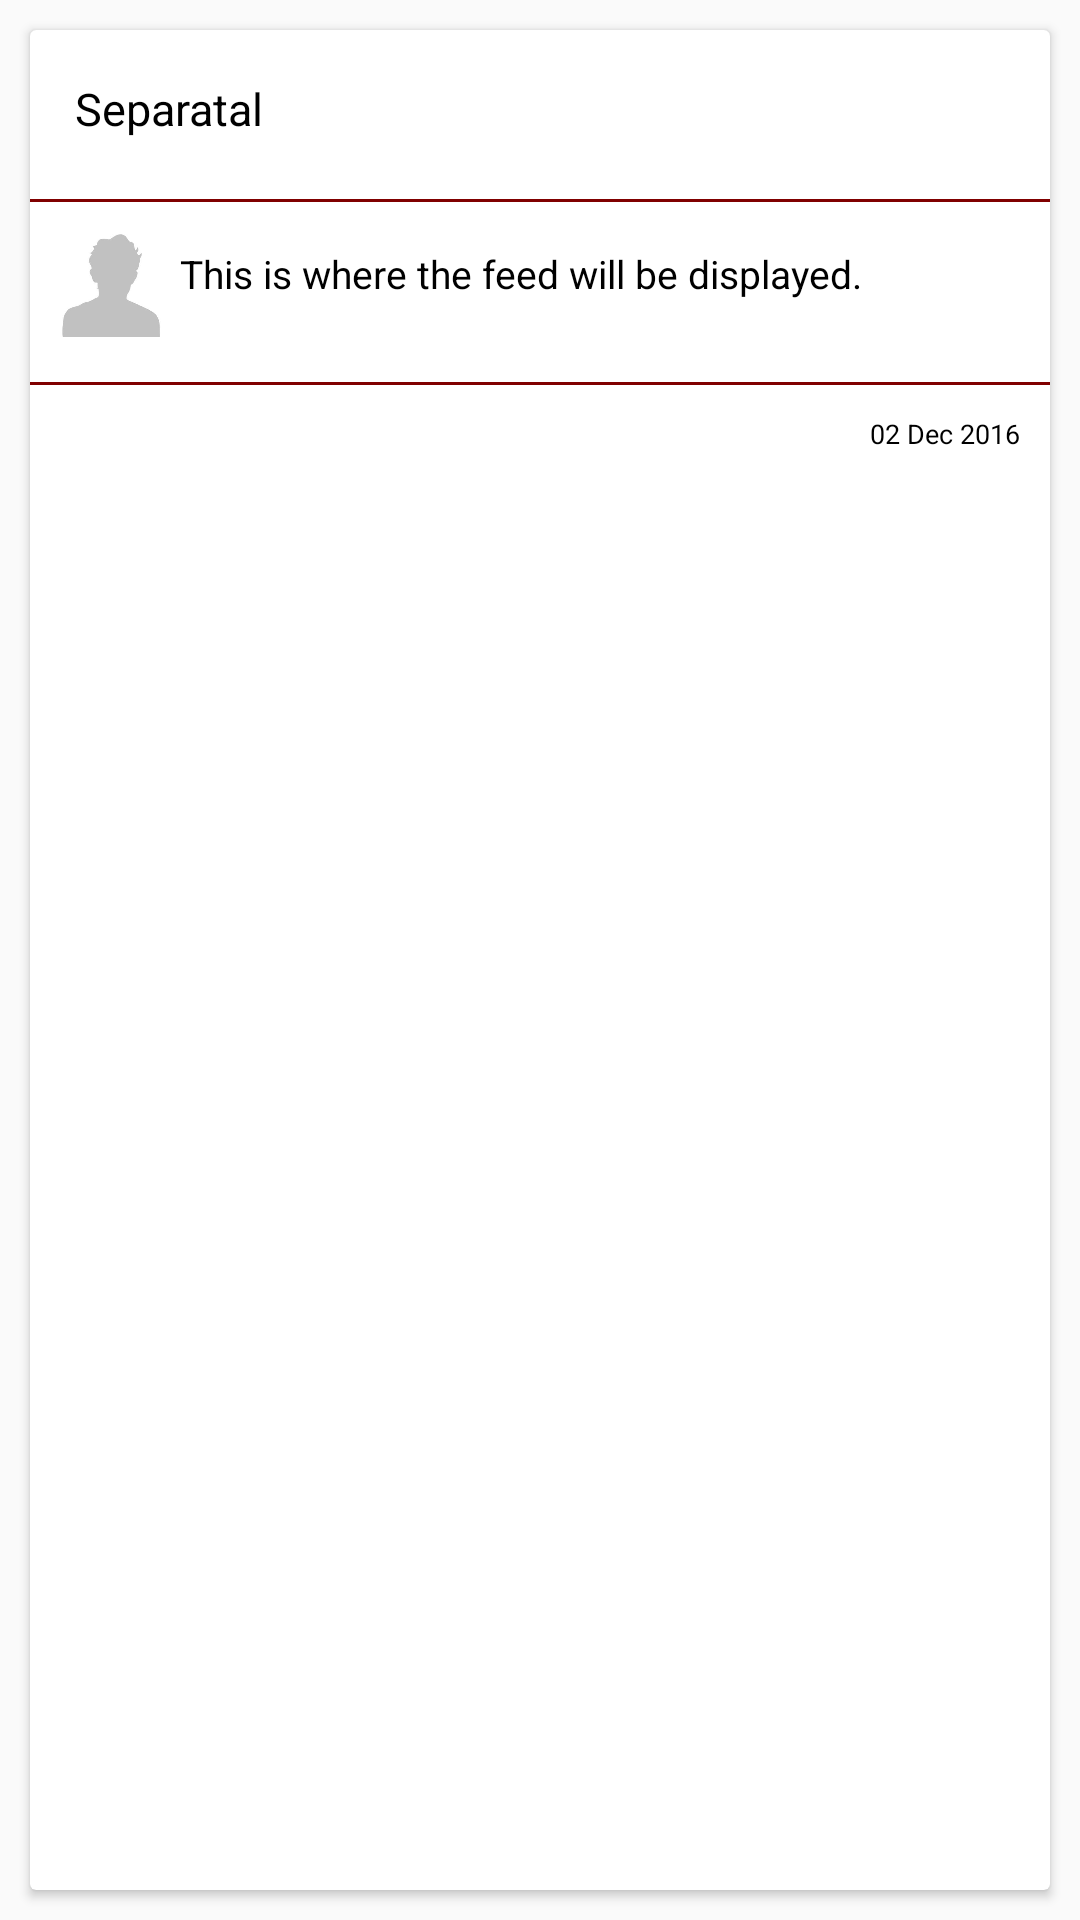

Screen size 1080 x 1920. Icon name, then its box in pixels as (x1, y1, x2, y2):
nopic: (62, 234, 160, 337)
